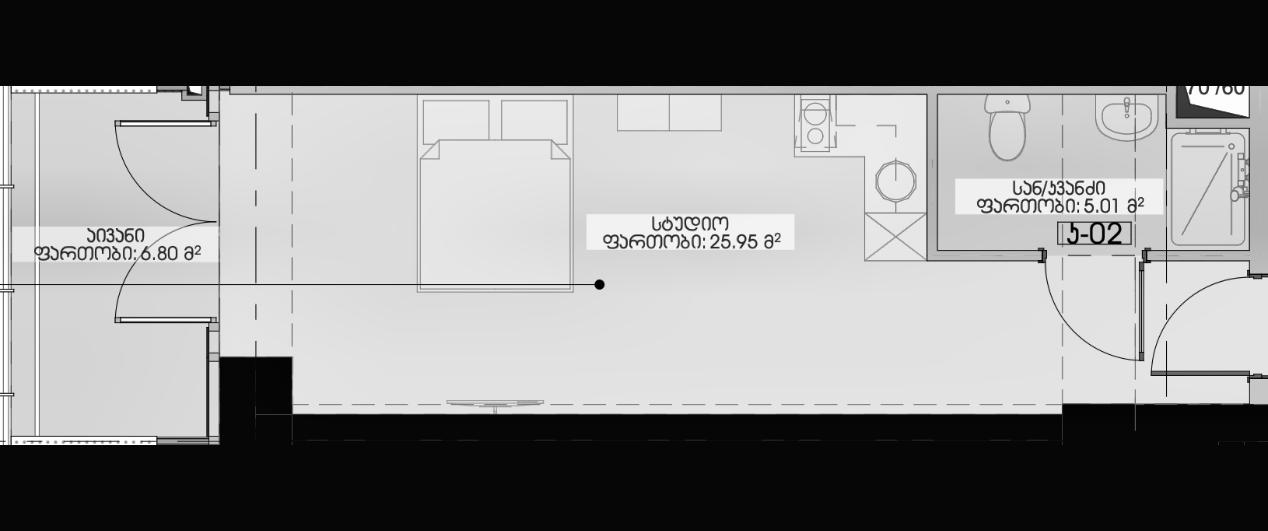door: (1035, 244, 1149, 366), (1150, 264, 1267, 382), (108, 115, 229, 225), (106, 225, 228, 323)
